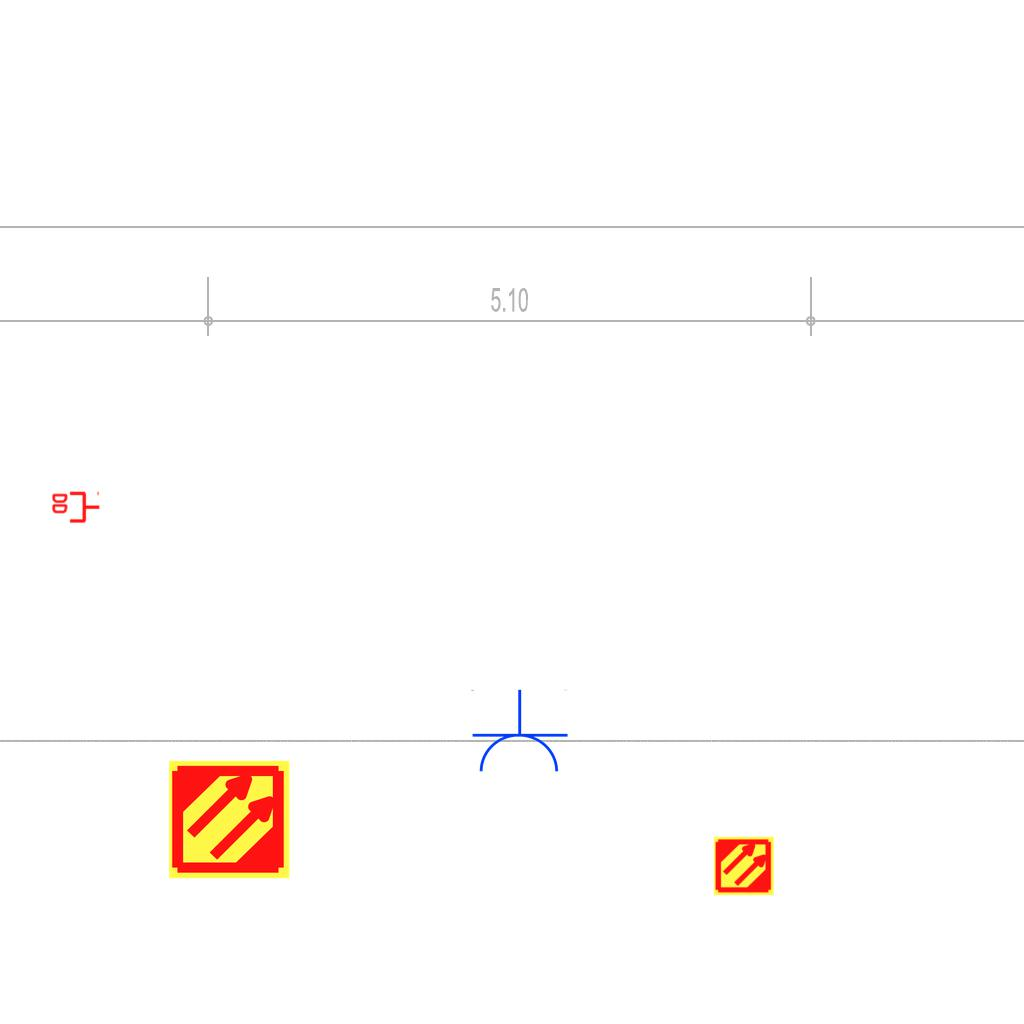ASR_Ansaugrauchmelder: (167, 757, 292, 882), (713, 835, 775, 897)
Datenanschluss_zweifach: (50, 491, 101, 525)
Schukosteckdose_einfach: (469, 689, 569, 776)
